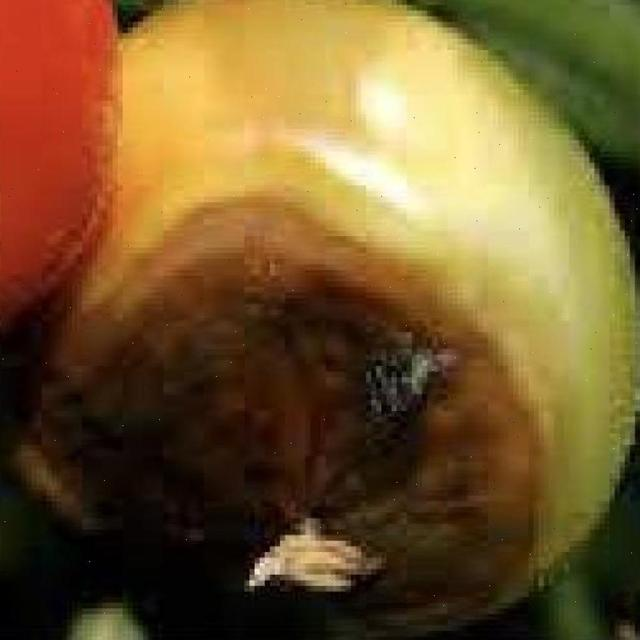Blossom End Rot Fruit: (28, 125, 359, 420)
